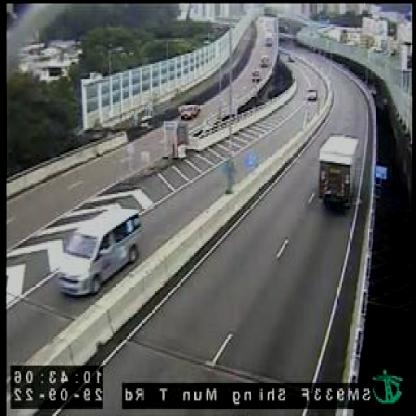Car: (57, 203, 143, 298), (180, 97, 202, 121), (306, 83, 321, 101), (250, 66, 264, 81)
Truck: (316, 130, 363, 213)
